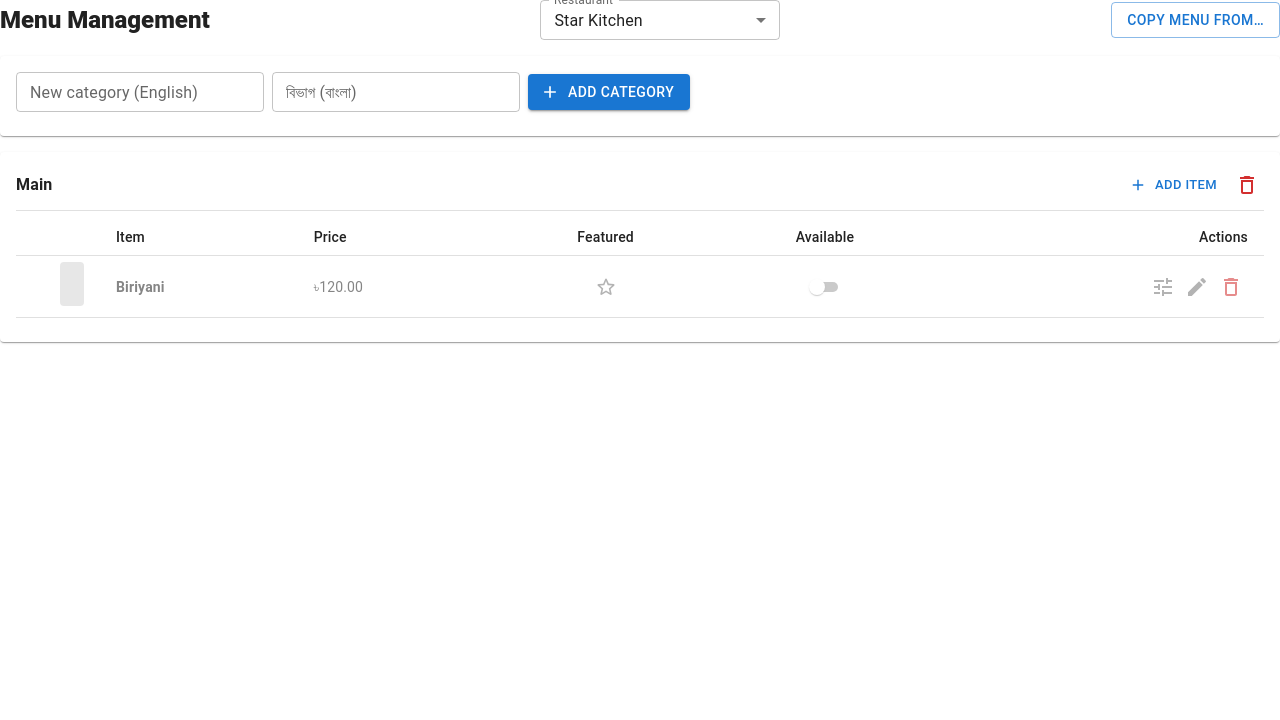
it: shows the failing field inline when the backend rejects the item
Click the button "Add item" at [1174, 185], box left=1126, top=168, right=1222, bottom=202
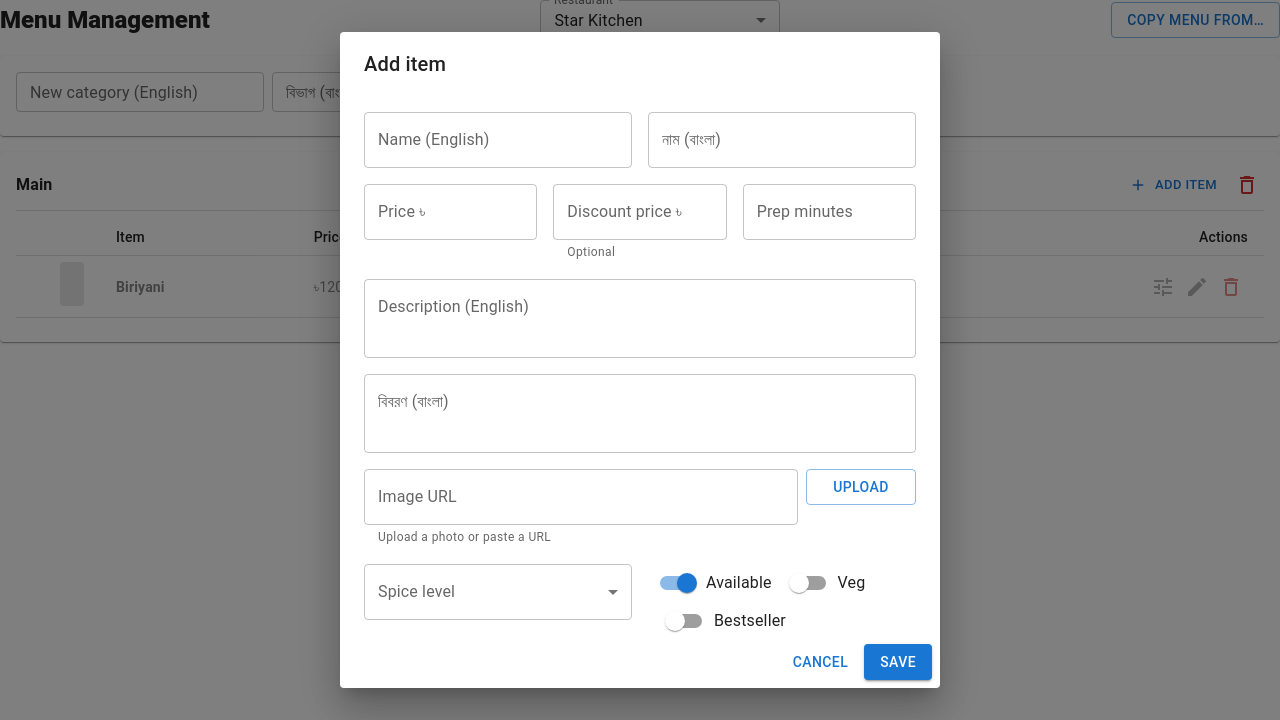
Type "Tehari" into the field labelled "Name (English)" at [498, 140], box left=364, top=112, right=632, bottom=168
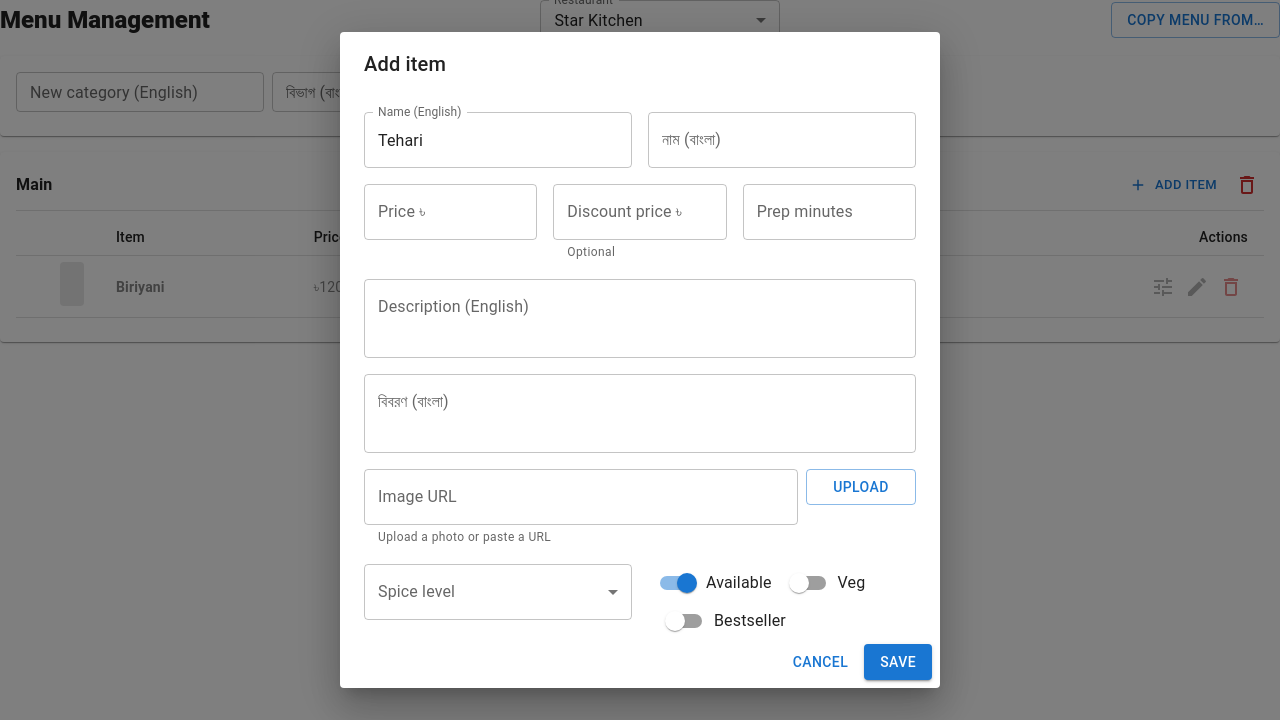
Type "180" into the number field labelled "Price ৳" at [451, 212], box left=364, top=184, right=537, bottom=240
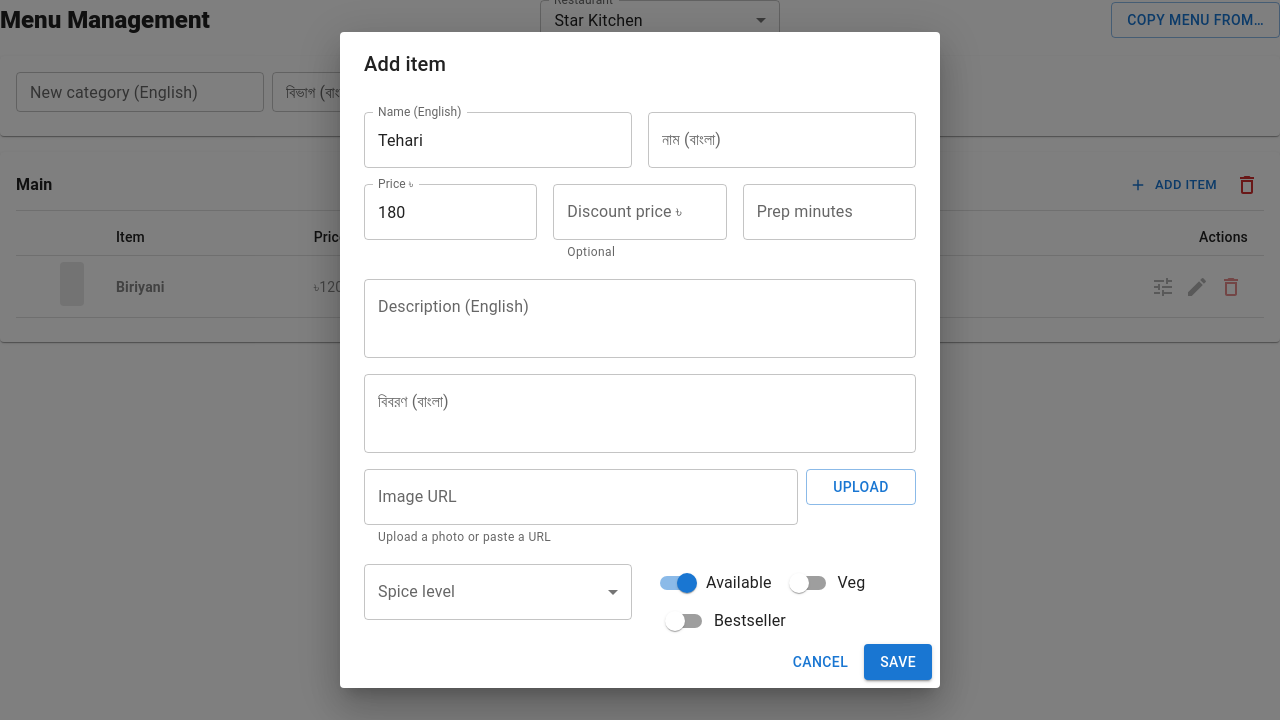
Click the button "Save" at [898, 662], box left=864, top=644, right=932, bottom=680
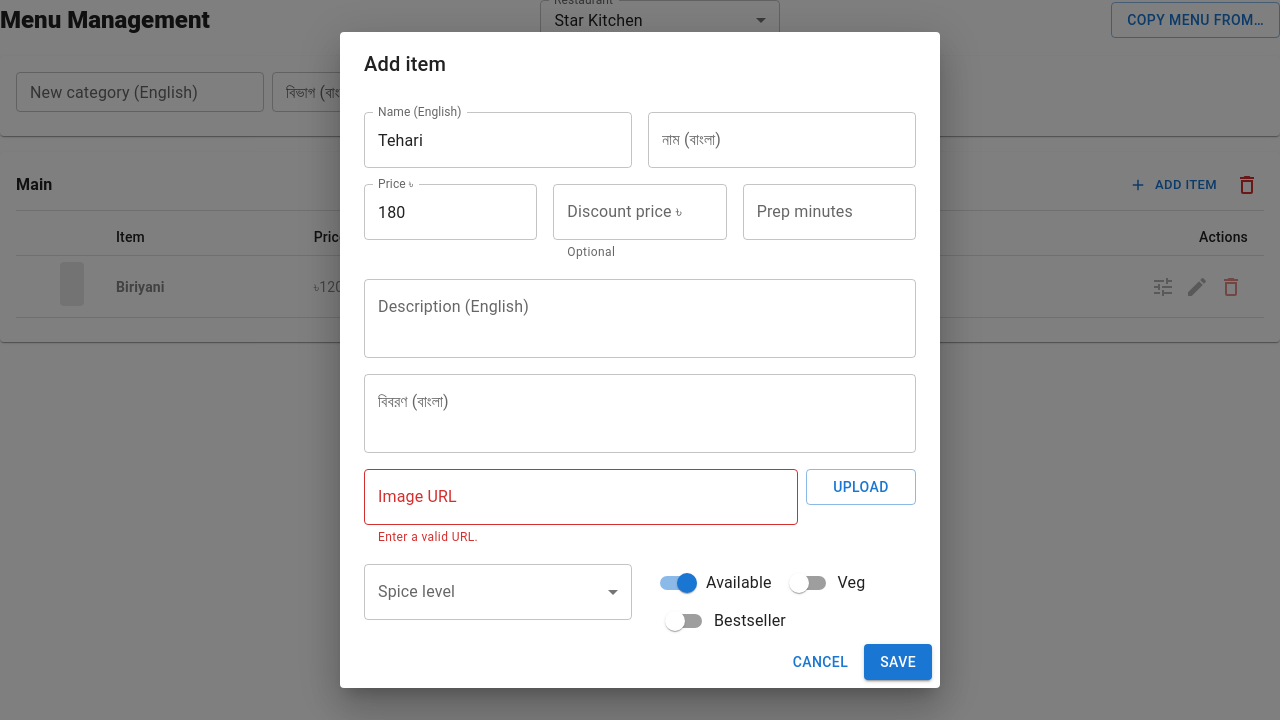
Expected: the button "Save" is shown, left=864, top=644, right=932, bottom=680
Expected: the text "Enter a valid URL." is shown, left=378, top=530, right=478, bottom=544
